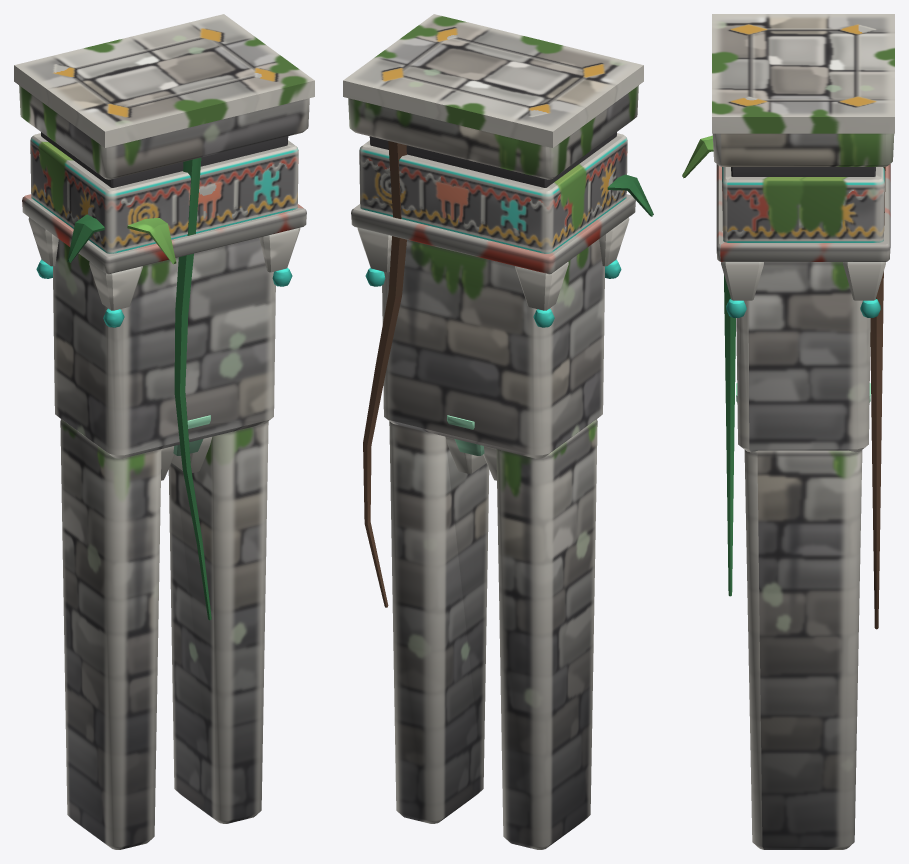
File: bridge_N.glb
3 renders of one model, left to right at view 1: azimuth 30°, elevation 25°; view 2: azimuth 150°, elevation 25°; view 3: azimuth 270°, elevation 25°, orthographic.
Parts seen in each view (by area): view 1: bridge_N.001; view 2: bridge_N.001; view 3: bridge_N.001.
Part boxes in pixels (x1,y1,x2,y2): bridge_N.001: (14,14,314,849); bridge_N.001: (343,14,653,849); bridge_N.001: (682,14,894,849).
Size of the model in its own units: 4.44 by 13.6 by 3.49.
Materials: 1 (1 with a texture image).
